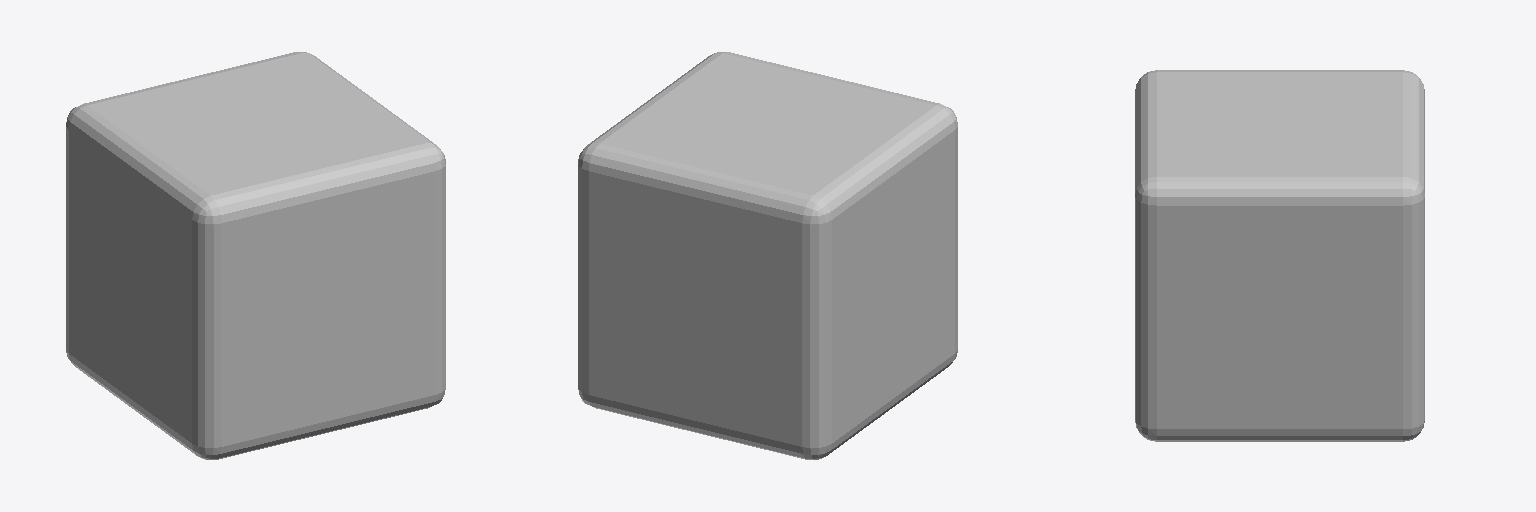
File: Ground.obj
3 views of the same model, side by side, from view 1: azimuth 30°, elevation 25°; view 2: azimuth 150°, elevation 25°; view 3: azimuth 270°, elevation 25° (orthographic).
Parts seen in each view (by area): view 1: Ground; view 2: Ground; view 3: Ground.
Boxes of the visible parts, <box> form: Ground: <box>66,52,445,459</box>; Ground: <box>578,52,957,459</box>; Ground: <box>1135,70,1424,441</box>.
Bounding box in the file's own units: 2 × 2 × 2.